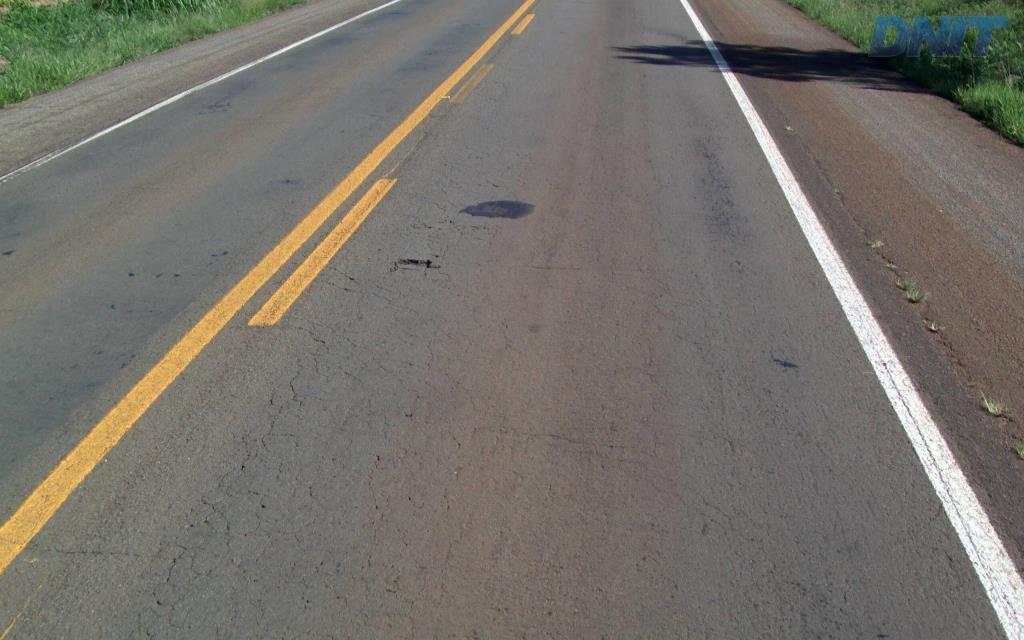pothole: (389, 251, 446, 280)
